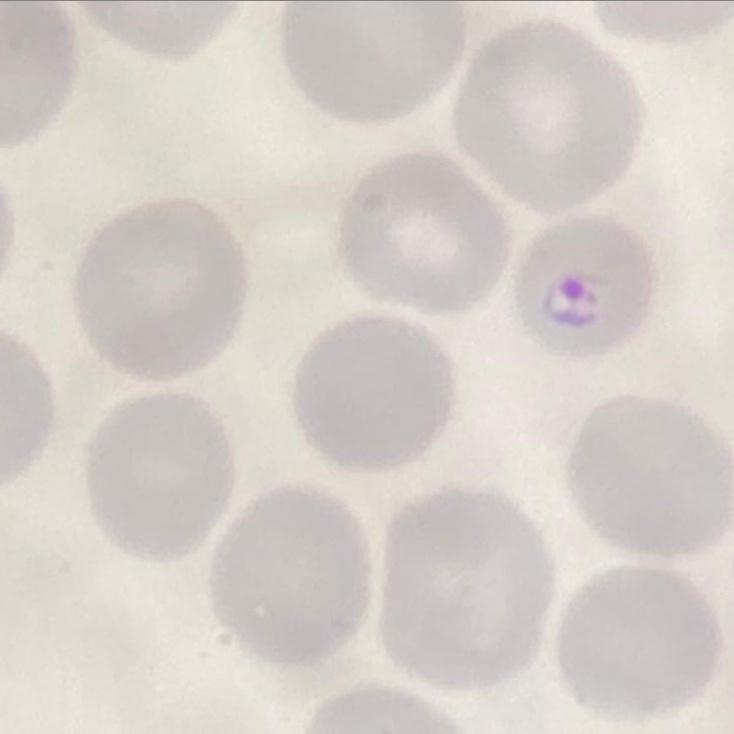Infected: (511, 207, 653, 362)
Uninfected: (378, 485, 554, 687), (454, 21, 637, 212), (74, 193, 245, 382), (214, 485, 367, 665), (570, 395, 734, 560), (346, 153, 507, 320), (86, 395, 230, 569), (558, 569, 718, 715), (286, 0, 471, 122), (302, 317, 450, 469)
